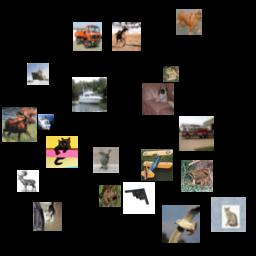airplane: (141, 149, 173, 181), (123, 182, 155, 214)
bird: (162, 205, 200, 243), (93, 147, 119, 173)
cat: (211, 197, 246, 232), (46, 136, 78, 168), (33, 202, 62, 231)
deer: (2, 107, 37, 142), (17, 170, 39, 192)
dog: (142, 83, 174, 115), (176, 9, 202, 35)
frog: (181, 160, 213, 192), (99, 185, 121, 207), (163, 66, 179, 82)
ship: (72, 77, 107, 112), (27, 63, 49, 85), (38, 114, 54, 130)
truck: (179, 116, 214, 151), (73, 22, 102, 51)
